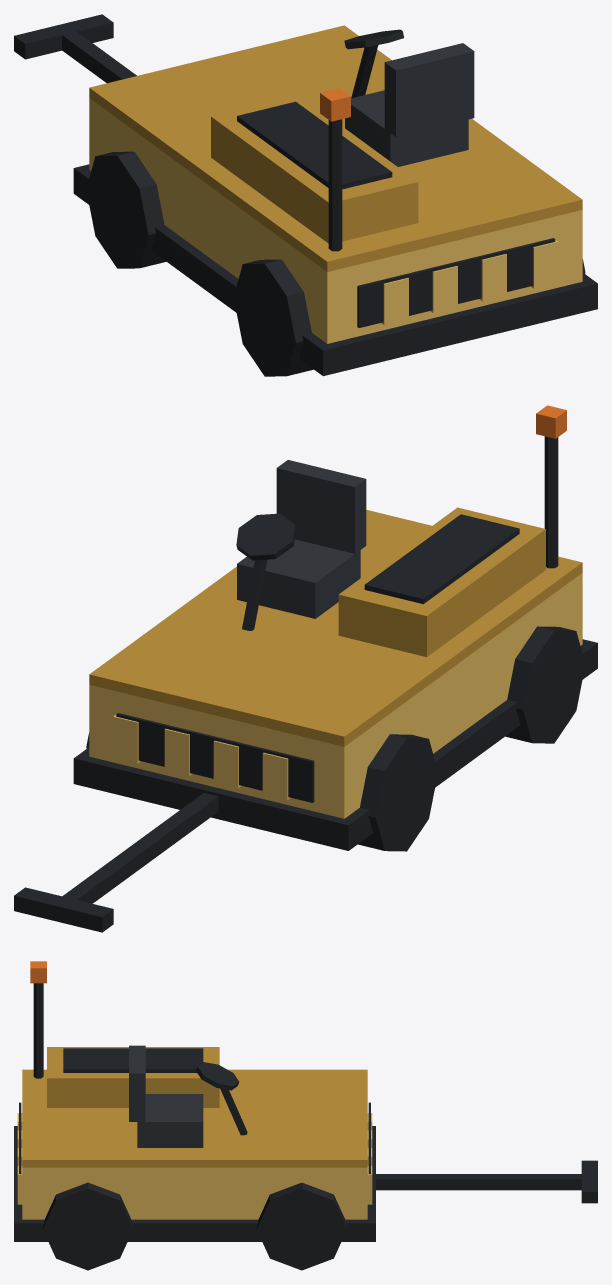
Rendered from veh_carrier_tractor.fbx.
The picture shows the model from 3 angles, top to bottom: view 1: azimuth 30°, elevation 25°; view 2: azimuth 150°, elevation 25°; view 3: azimuth 270°, elevation 25°; orthographic projection. The views are drawn at different scales.
Parts seen in each view (by area): view 1: veh_carrier_tractor; view 2: veh_carrier_tractor; view 3: veh_carrier_tractor.
Boxes of the visible parts, bbox=[...] form: veh_carrier_tractor: bbox=[14, 14, 597, 376]; veh_carrier_tractor: bbox=[14, 405, 597, 932]; veh_carrier_tractor: bbox=[14, 961, 597, 1270].
Bounding box in the file's own units: 590 × 580 × 1420.
